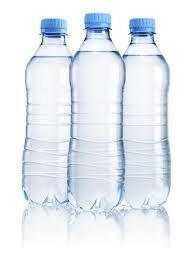Plastic bottle: (15, 11, 179, 225)
